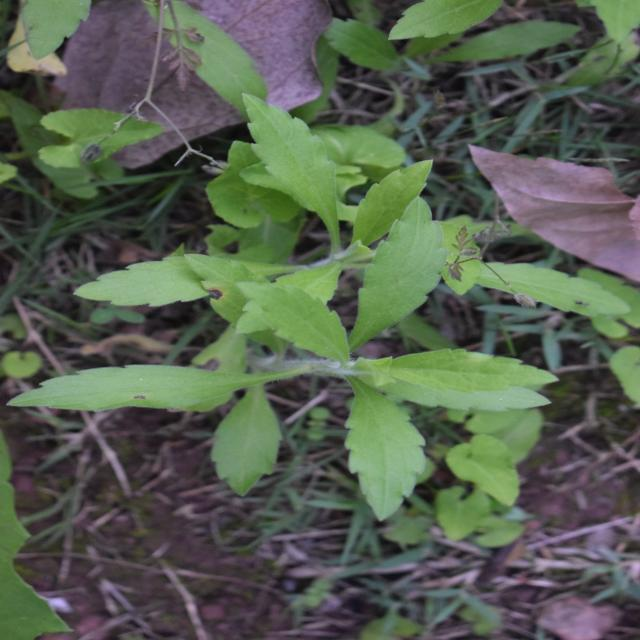horseweed: (248, 104, 495, 584)
